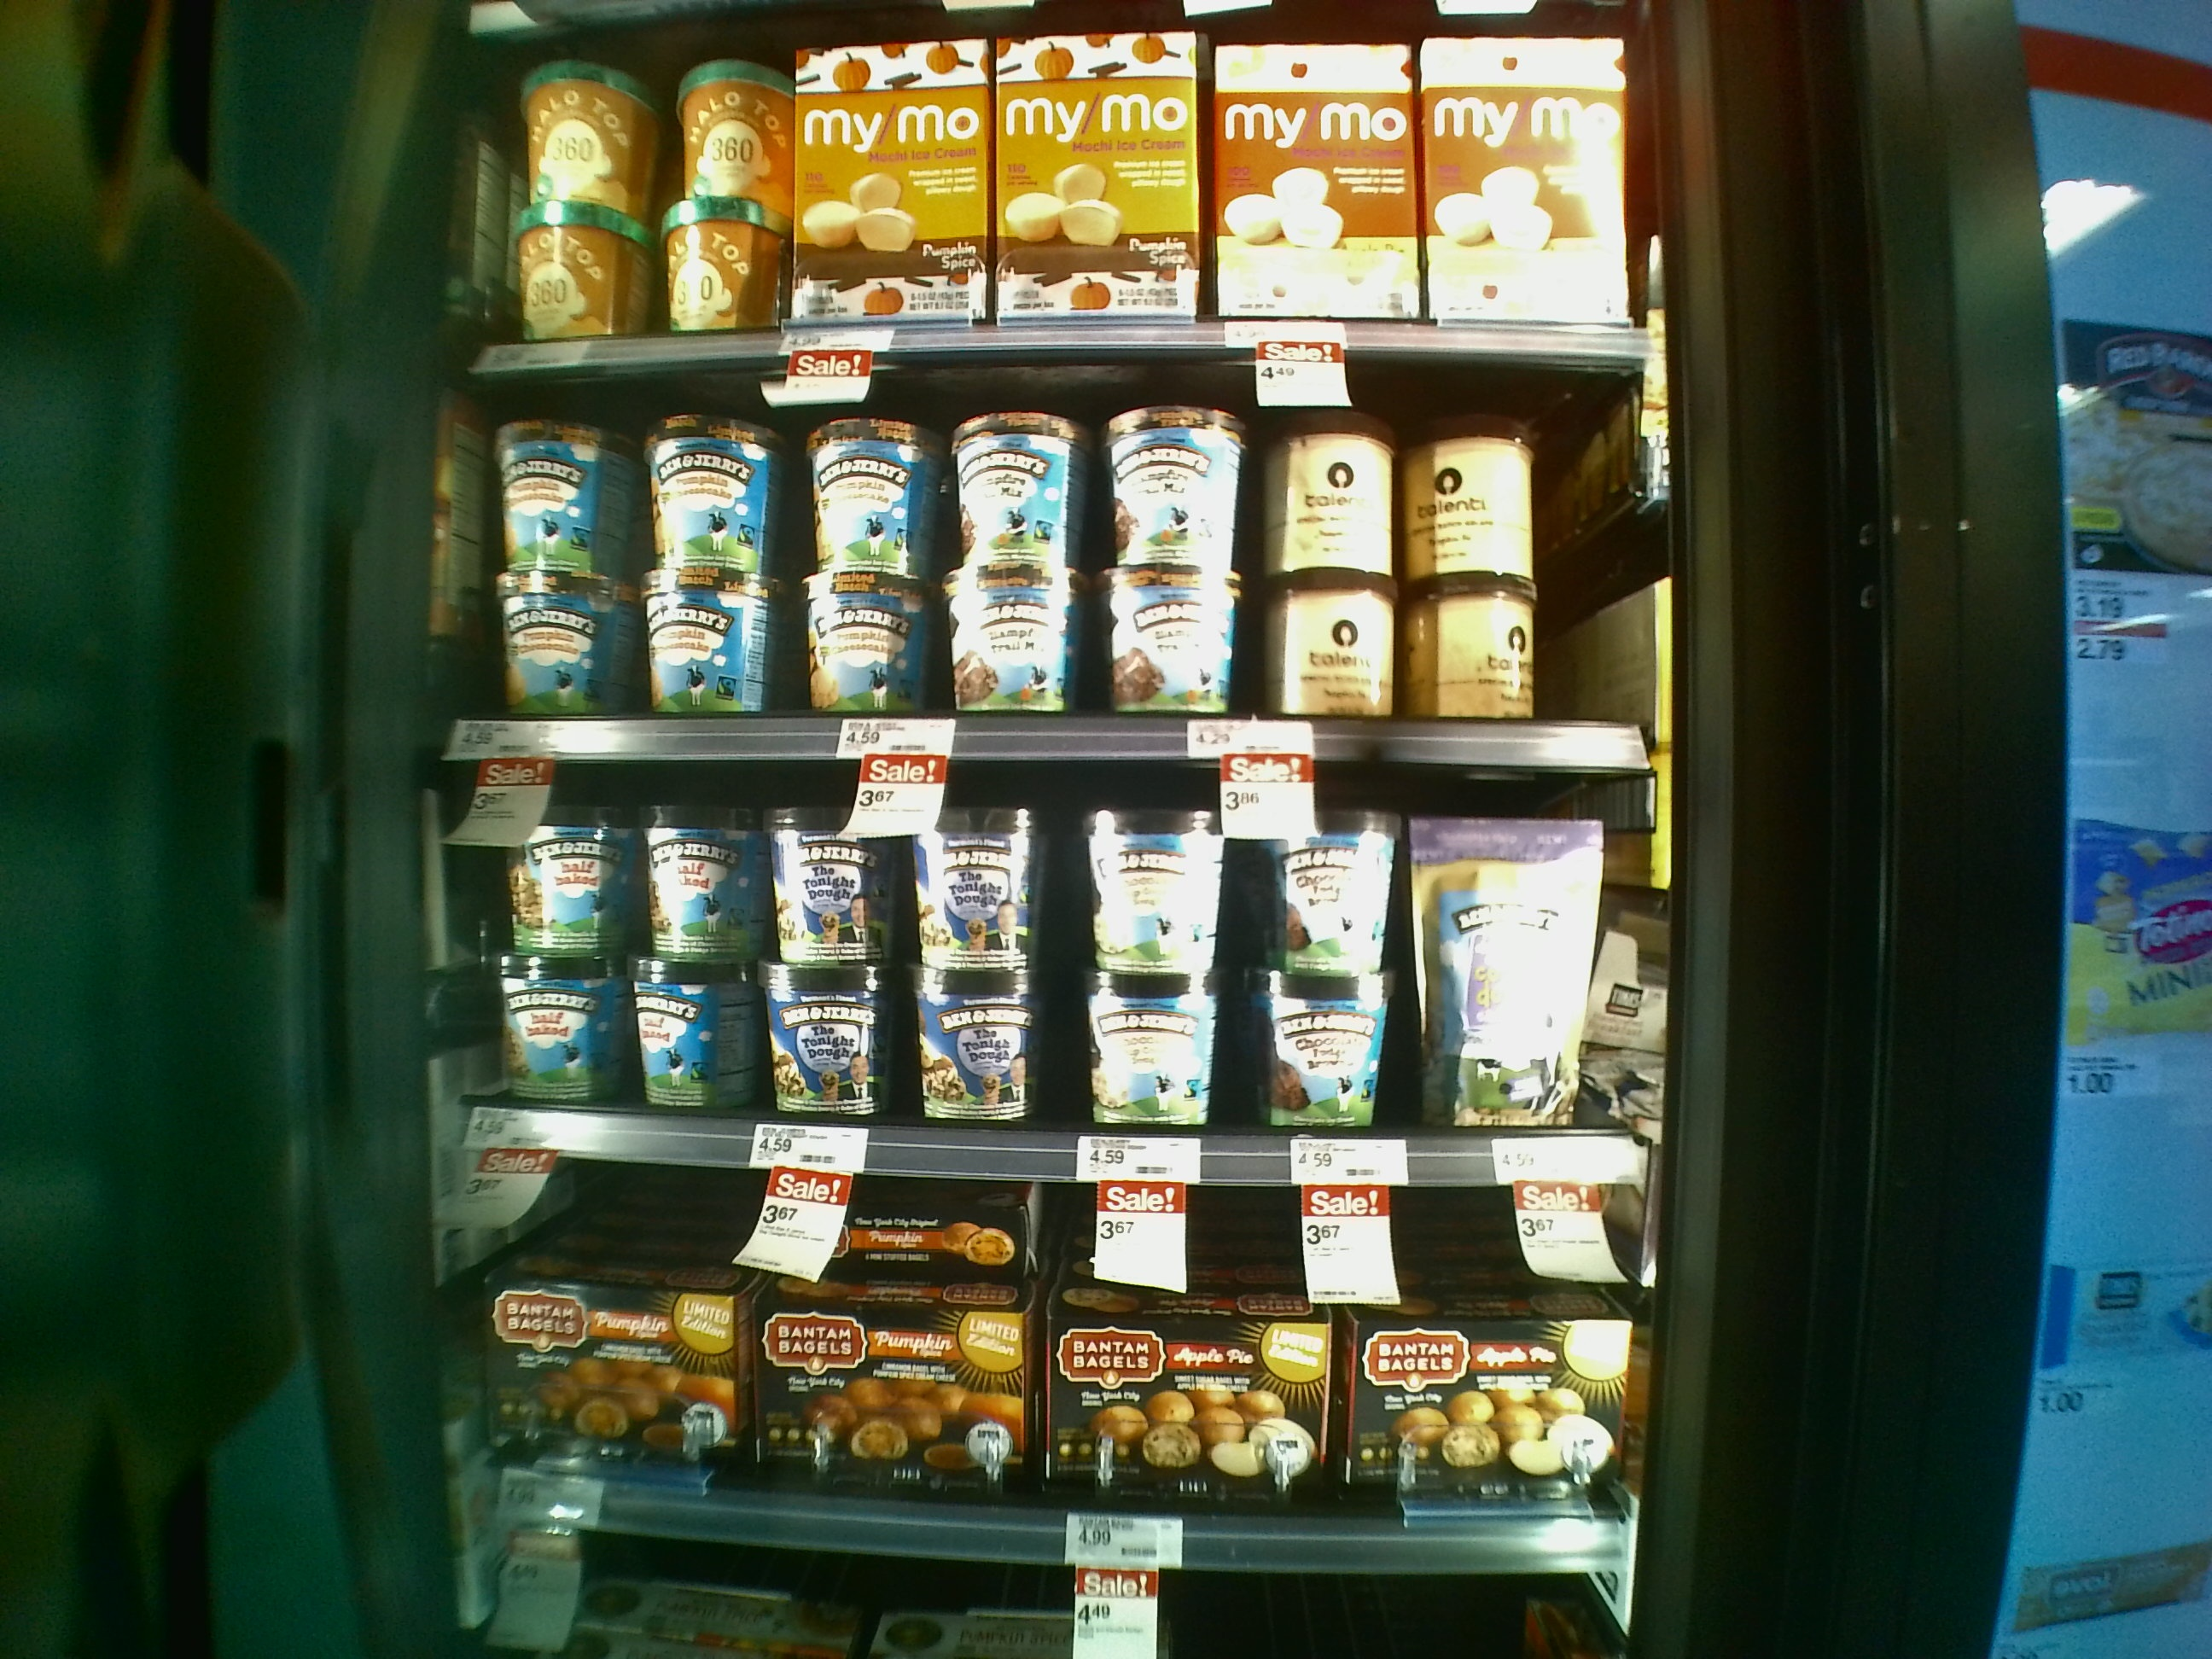shelf: (388, 1138, 1658, 1572), (408, 748, 1679, 1180), (423, 359, 1693, 779)
